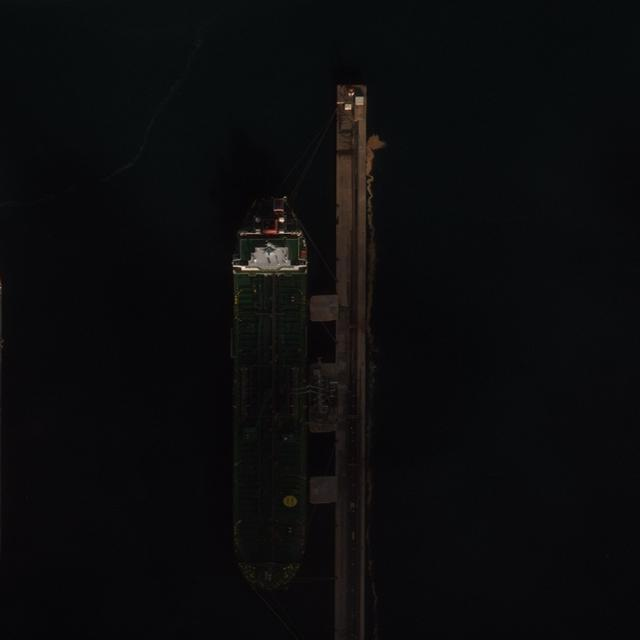Oil Tanker: (231, 195, 311, 597)
